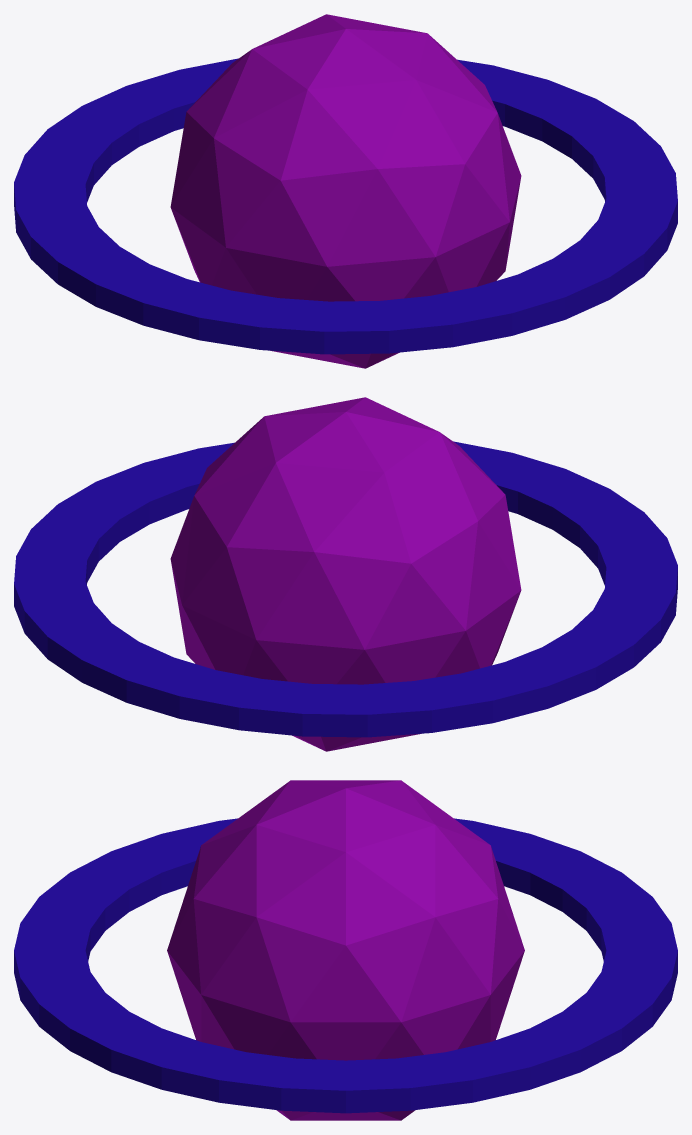
The model's file is saturn.obj.
The picture shows the model from 3 angles, top to bottom: view 1: azimuth 30°, elevation 25°; view 2: azimuth 150°, elevation 25°; view 3: azimuth 270°, elevation 25°; orthographic projection.
Visible parts, largest first — view 1: Icosphere; view 2: Icosphere; view 3: Icosphere.
Part boxes in pixels (bbox=[...]): Icosphere: bbox=[14, 14, 677, 368]; Icosphere: bbox=[14, 397, 677, 751]; Icosphere: bbox=[14, 780, 677, 1120].
Size of the model in its own units: 3.71 by 2 by 3.71.
